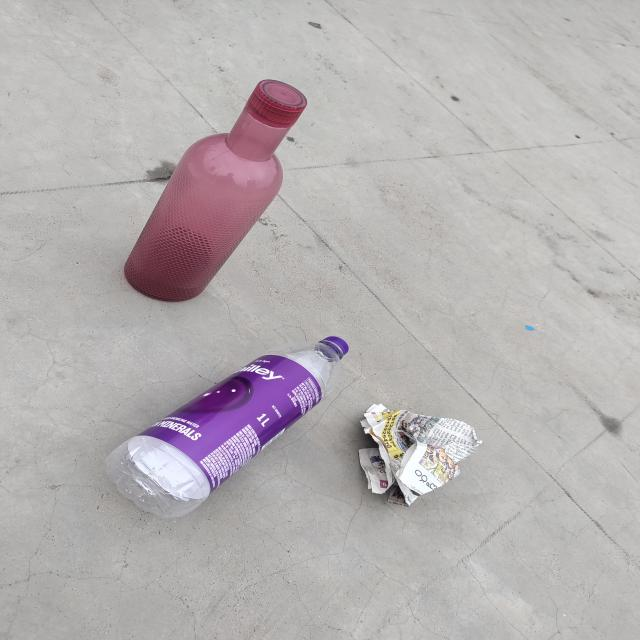paper: (356, 400, 504, 510)
plastic: (96, 62, 336, 302), (89, 323, 351, 513)
